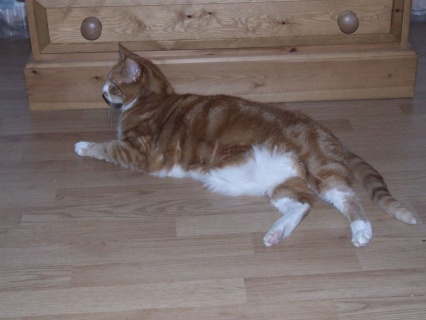Cat: (74, 41, 417, 247)
